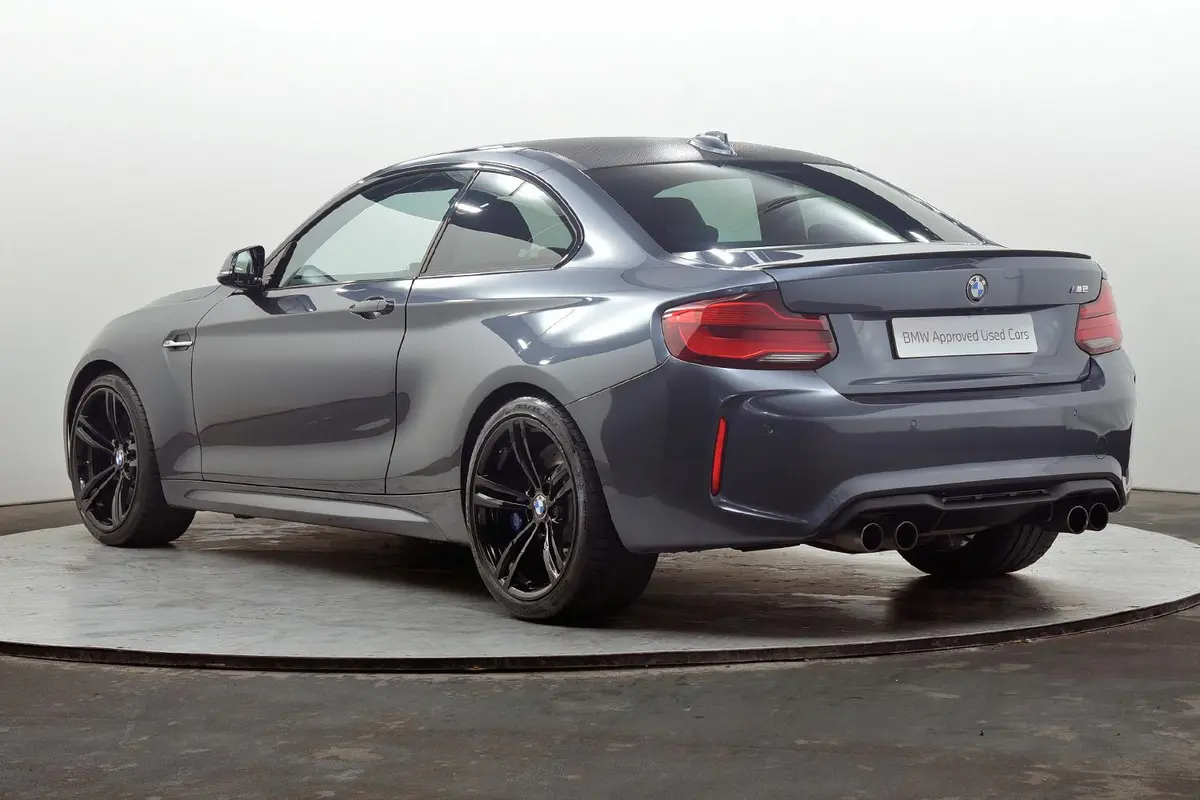car: (58, 122, 1148, 625)
